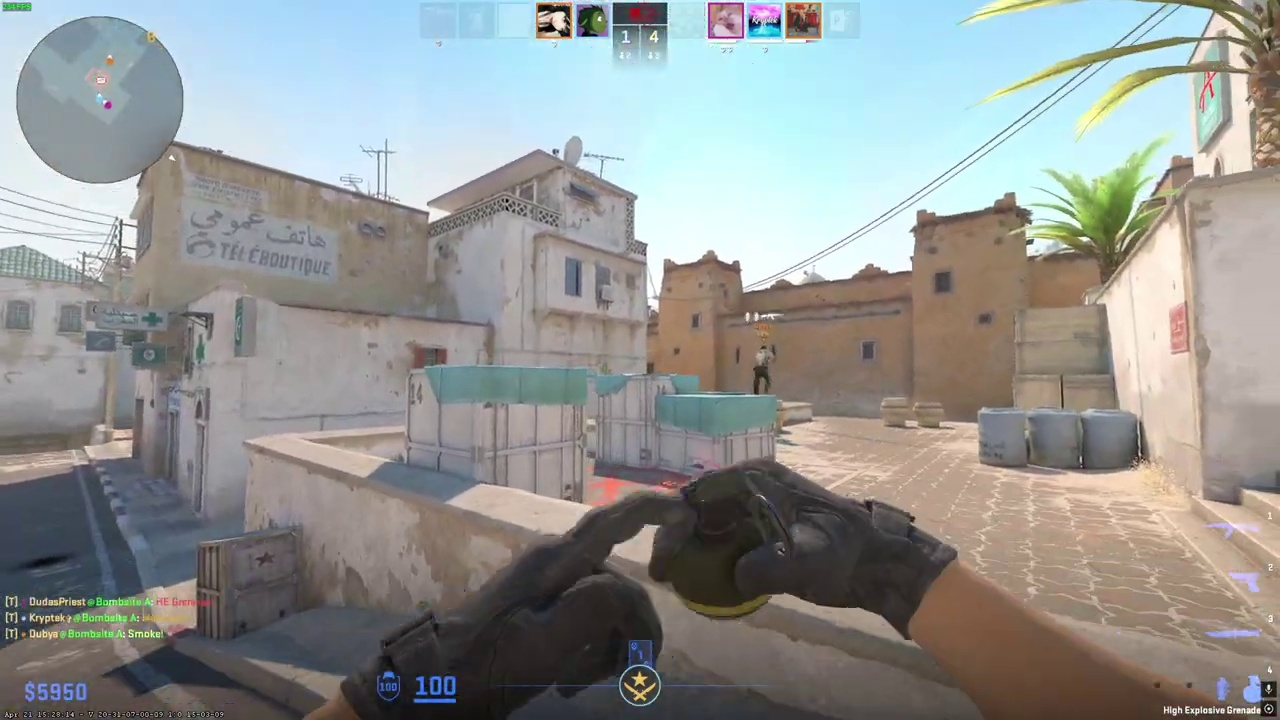Terrorist: (753, 345, 774, 395)
